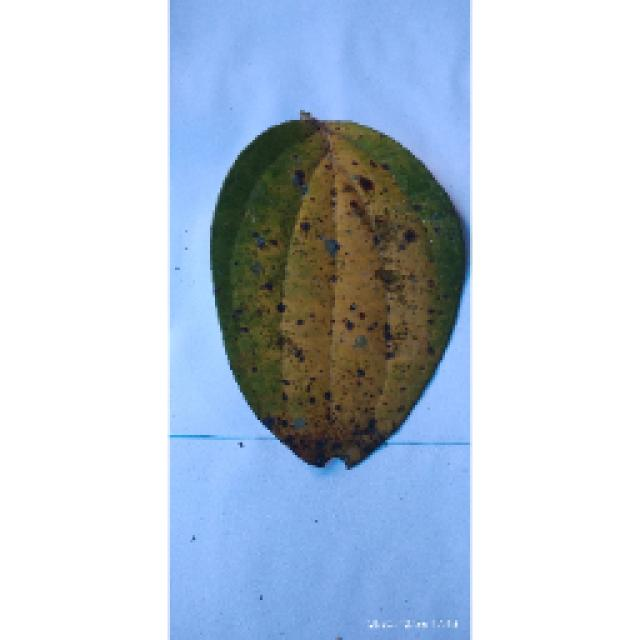slow-decline: (192, 100, 470, 468)
